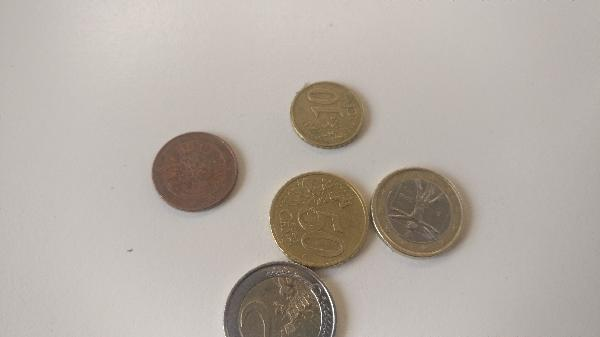Fifty Cent: (268, 172, 369, 266)
Five Cent: (150, 130, 240, 213)
One Euro: (370, 167, 464, 258)
Ten Cent: (288, 79, 373, 148)
Two Euro: (221, 260, 344, 337)
